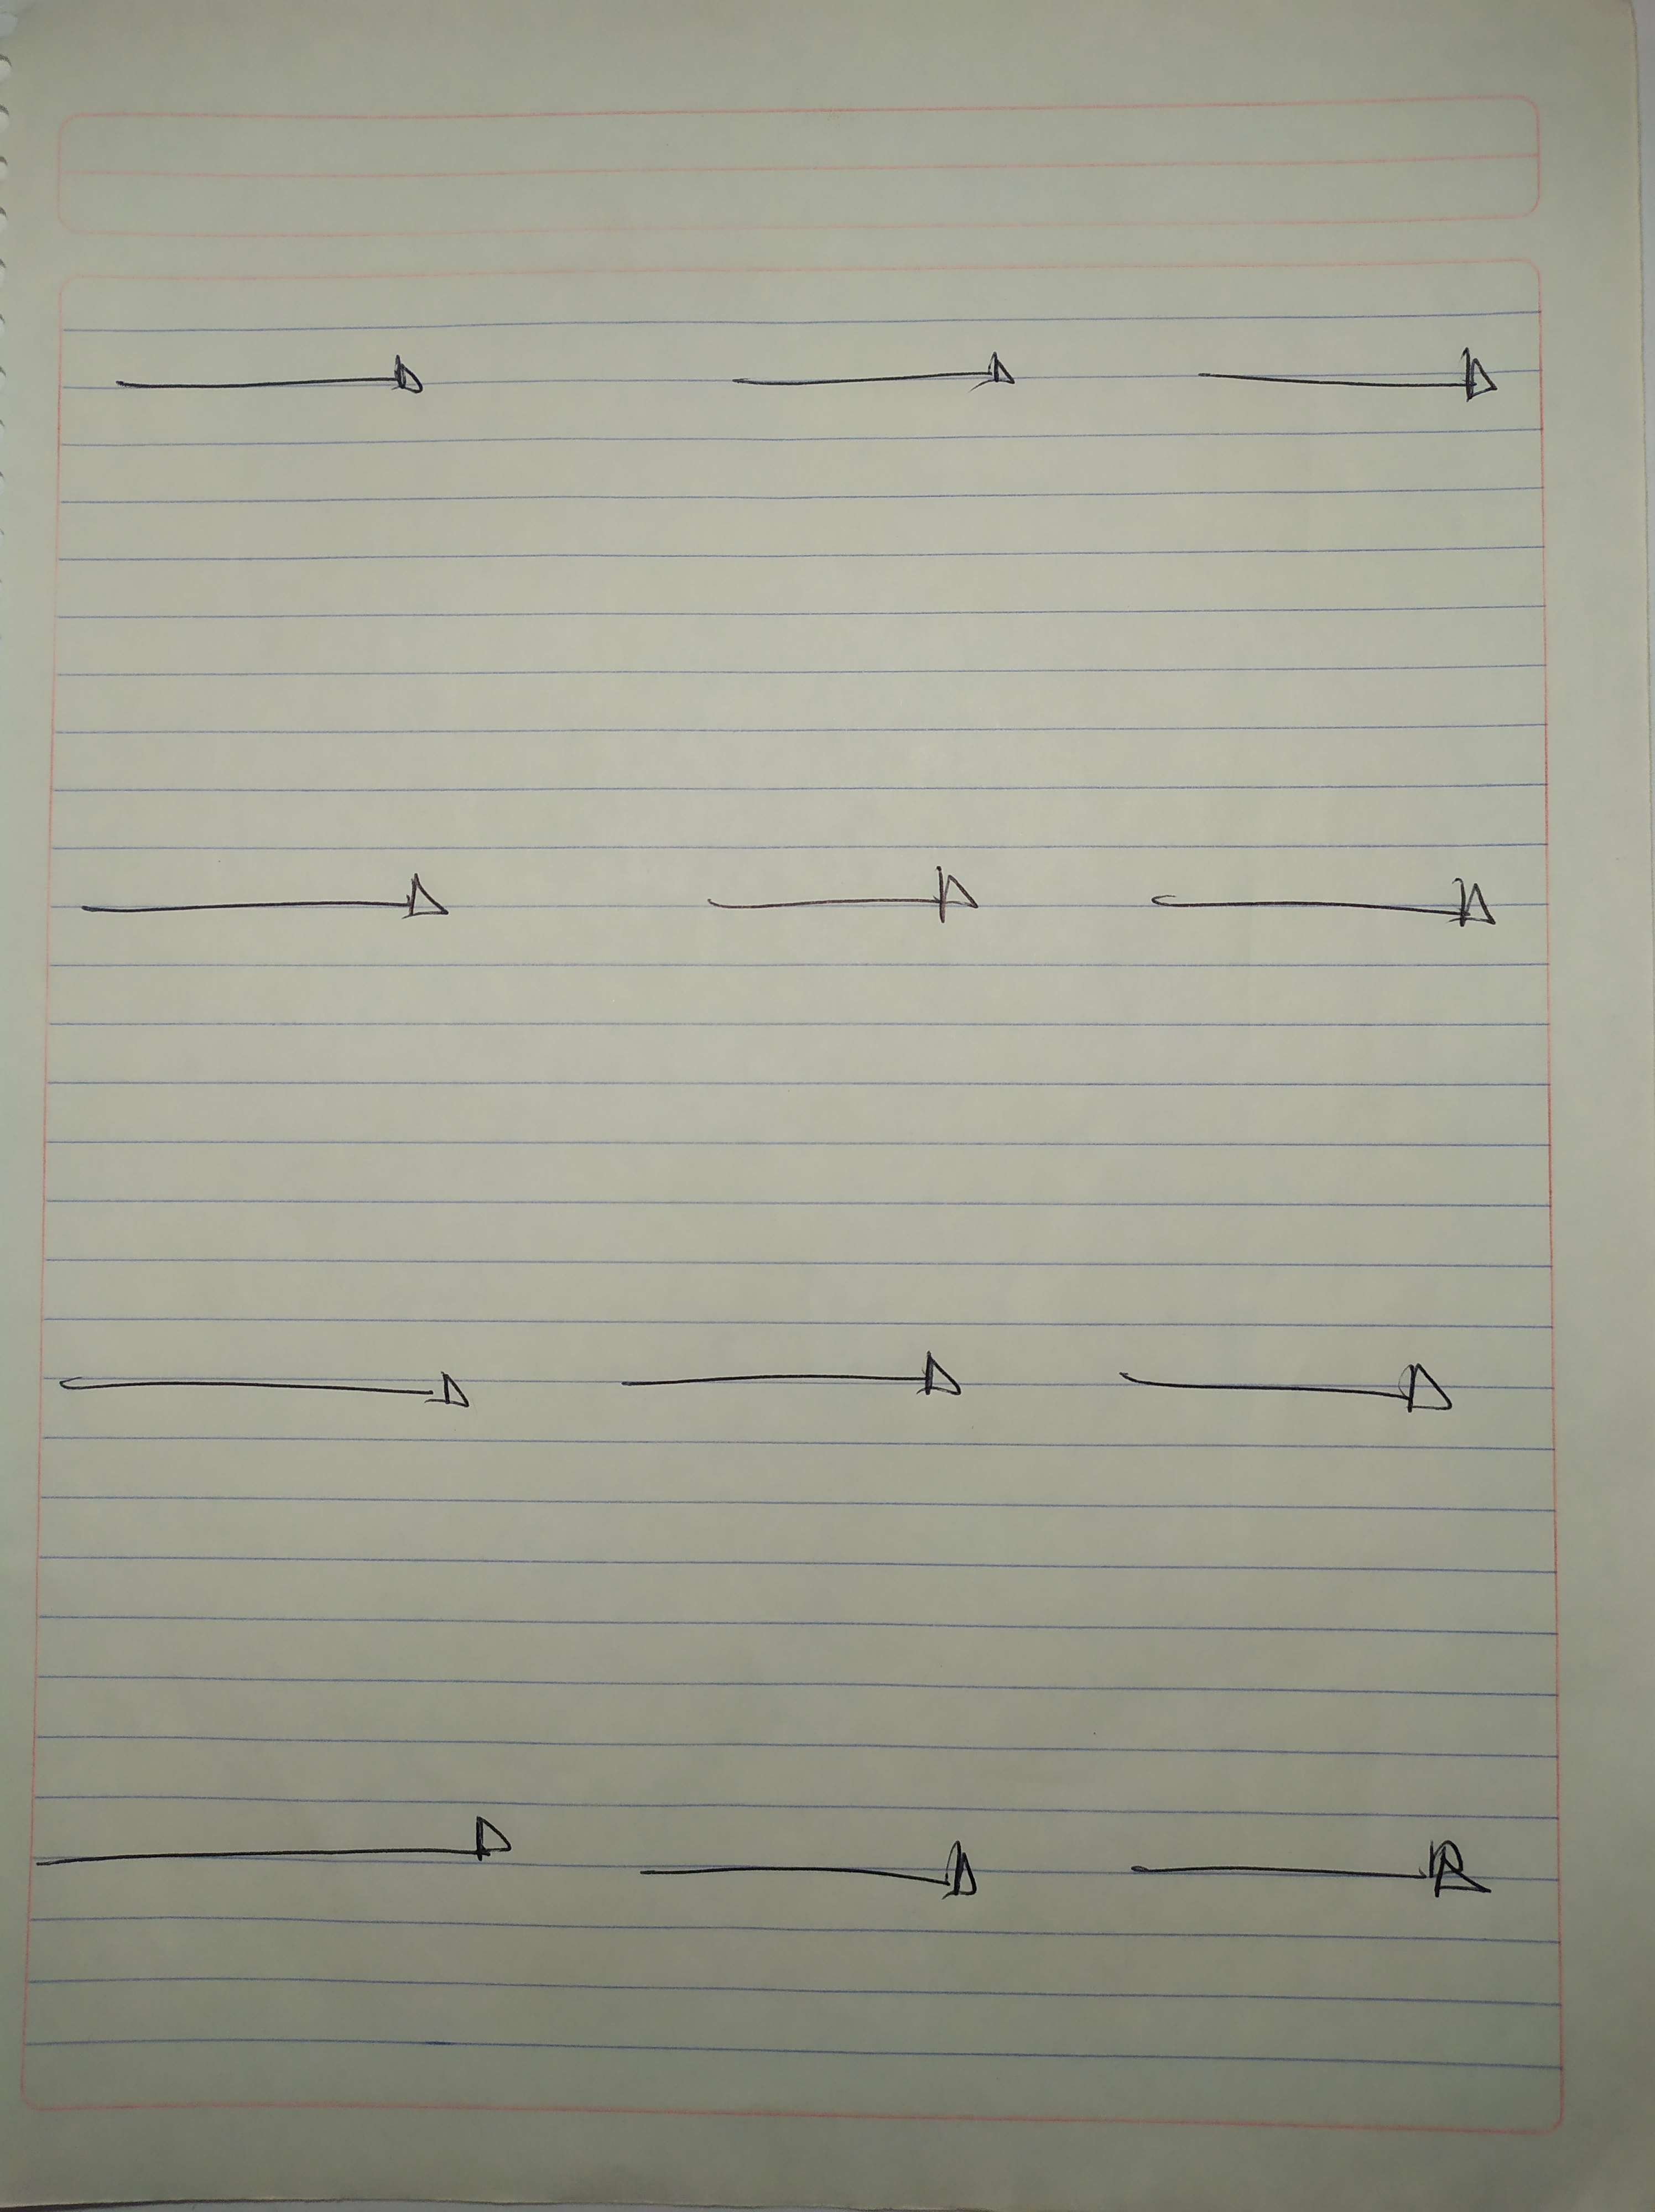arrow_line_right: (42, 1334, 518, 1447), (10, 1797, 555, 1889), (607, 1816, 1010, 1924), (56, 850, 485, 950), (1128, 850, 1526, 954), (1095, 1823, 1511, 1922), (1080, 1338, 1469, 1427), (1161, 334, 1525, 415), (668, 846, 1003, 931), (605, 1343, 996, 1414), (715, 346, 1057, 424), (92, 342, 457, 412)
